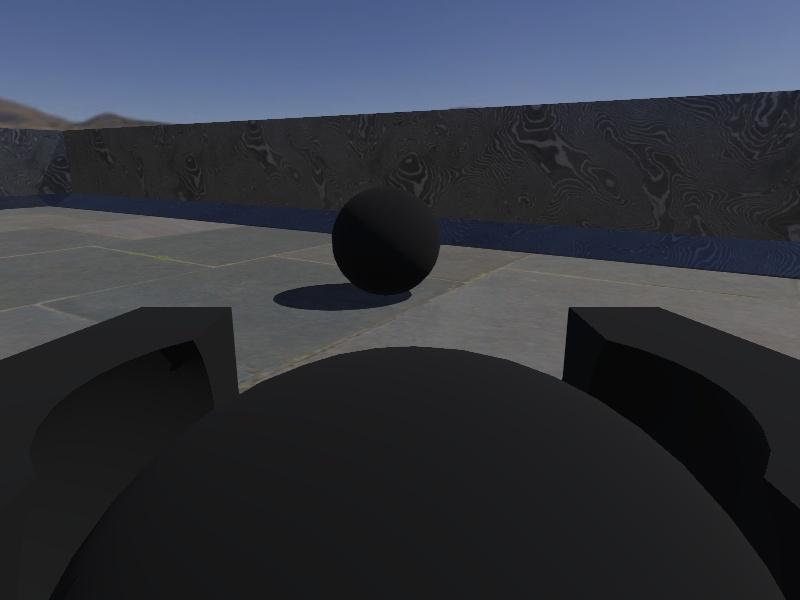black ball: (332, 185, 443, 298)
